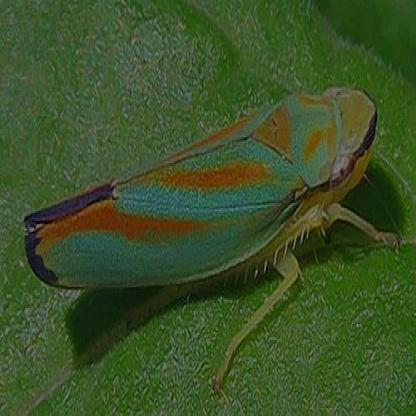green-leafhopper: (23, 98, 380, 281)
